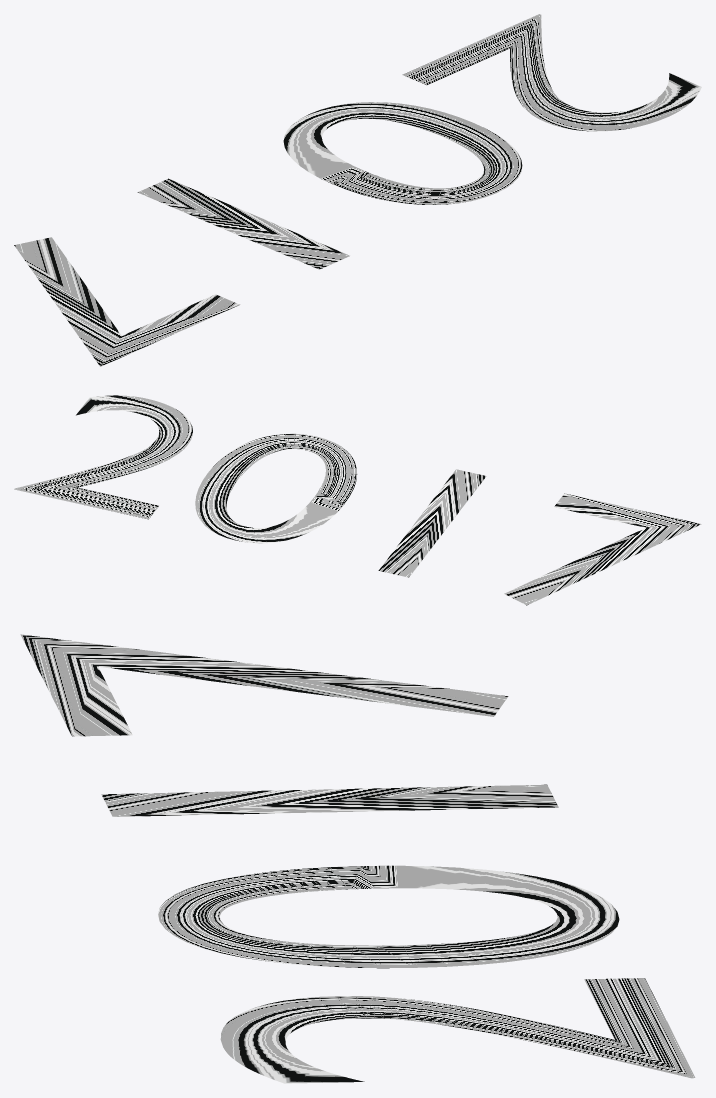
3 views of the same model, one above another, from view 1: azimuth 30°, elevation 25°; view 2: azimuth 150°, elevation 25°; view 3: azimuth 270°, elevation 25° (orthographic). The views are drawn at different scales.
Parts seen in each view (by area): view 1: Text.001; view 2: Text.001; view 3: Text.001.
Boxes of the visible parts, x1,y1,x2,y2 form: Text.001: (14, 14, 701, 366); Text.001: (14, 395, 701, 605); Text.001: (20, 634, 695, 1083).
Size of the model in its own units: 2.67 by 0.2195 by 1.43.
1 material, 1 textured.
